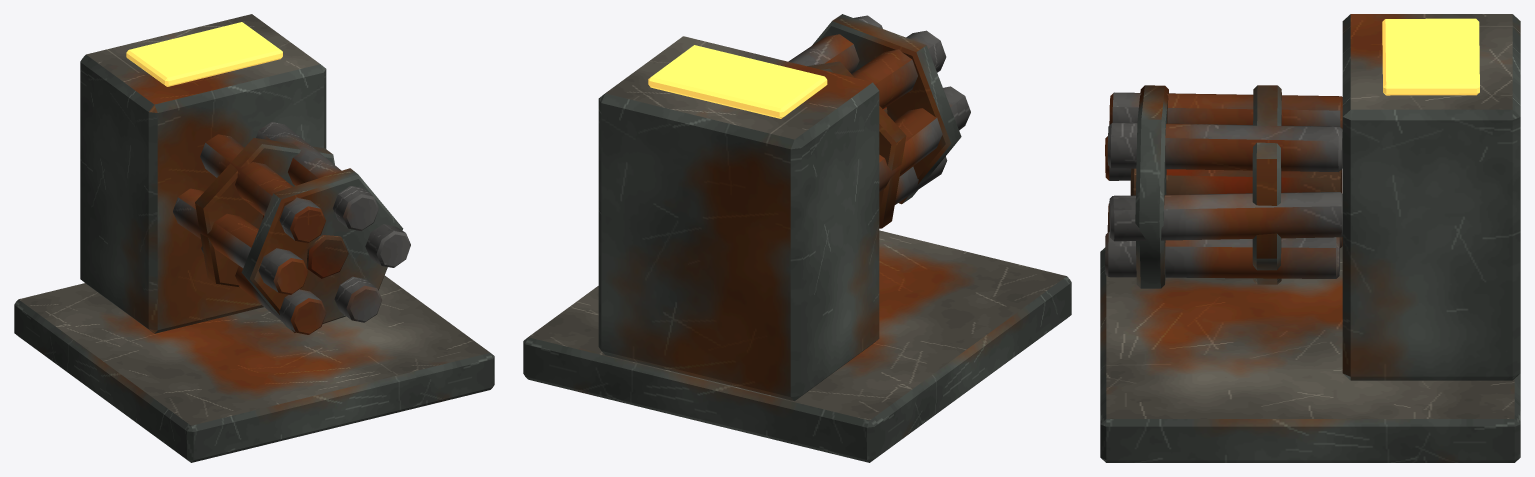
The model's file is R4X_RapidFire_LOD1.glb.
3 views of the same model, side by side, from view 1: azimuth 30°, elevation 25°; view 2: azimuth 150°, elevation 25°; view 3: azimuth 270°, elevation 25° (orthographic). The views are drawn at different scales.
Parts seen in each view (by area): view 1: R4X_RapidFire_LOD1; view 2: R4X_RapidFire_LOD1; view 3: R4X_RapidFire_LOD1.
Part boxes in pixels (bbox=[...]): R4X_RapidFire_LOD1: bbox=[14, 14, 494, 462]; R4X_RapidFire_LOD1: bbox=[523, 14, 1071, 462]; R4X_RapidFire_LOD1: bbox=[1100, 14, 1520, 462].
Size of the model in its own units: 0.52 by 0.445 by 0.52.
Materials: 5 (4 with a texture image).
